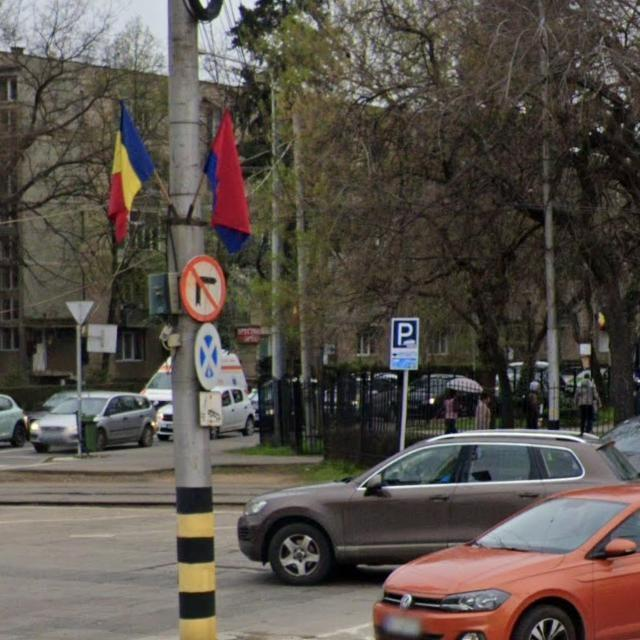forb_waiting: (193, 323, 223, 391)
